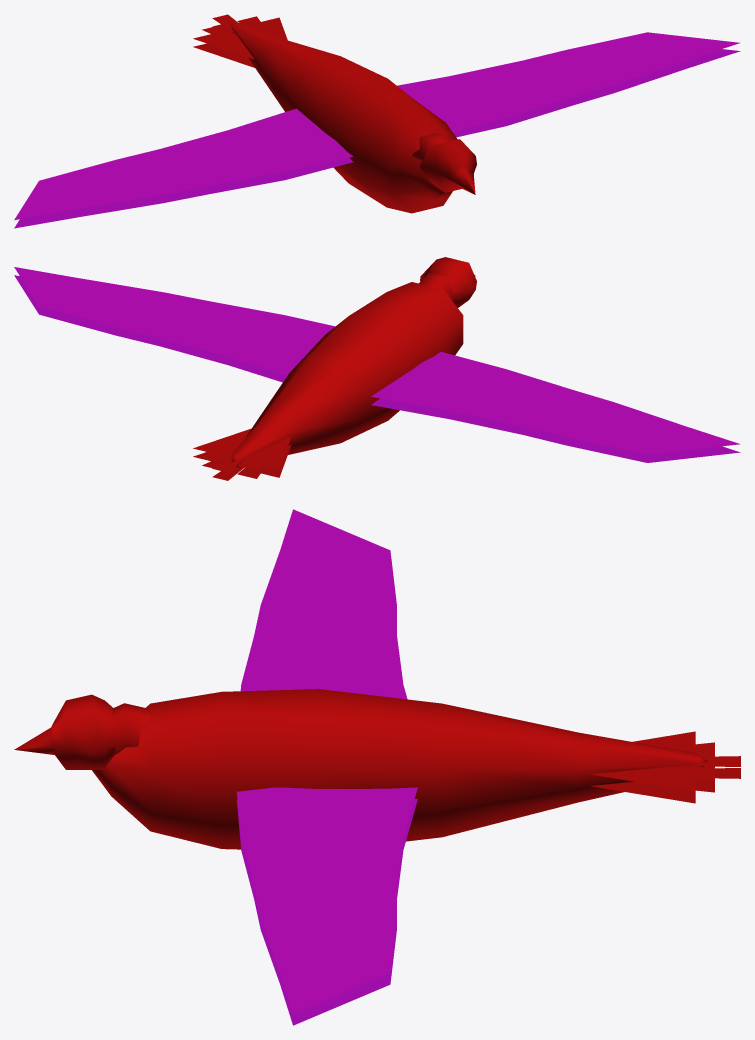
The model's file is guillemot.glb.
3 views of the same model, one above another, from view 1: azimuth 30°, elevation 25°; view 2: azimuth 150°, elevation 25°; view 3: azimuth 270°, elevation 25° (orthographic). The views are drawn at different scales.
Parts seen in each view (by area): view 1: bird; view 2: bird; view 3: bird.
Part boxes in pixels (x1=…): bird: x1=14, y1=14, x2=740, y2=228; bird: x1=14, y1=257, x2=740, y2=480; bird: x1=14, y1=509, x2=740, y2=1025.
Size of the model in its own units: 0.7188 by 0.0898 by 0.4375.
